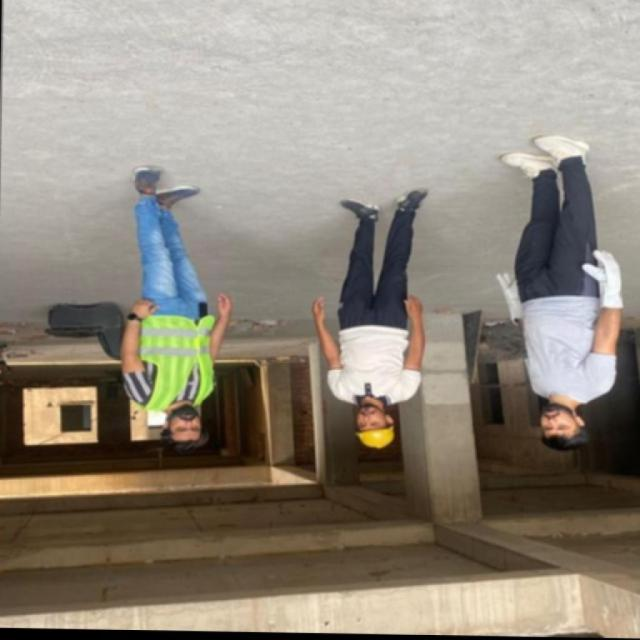Gloves-Detection: (577, 244, 625, 313), (492, 268, 520, 322)
